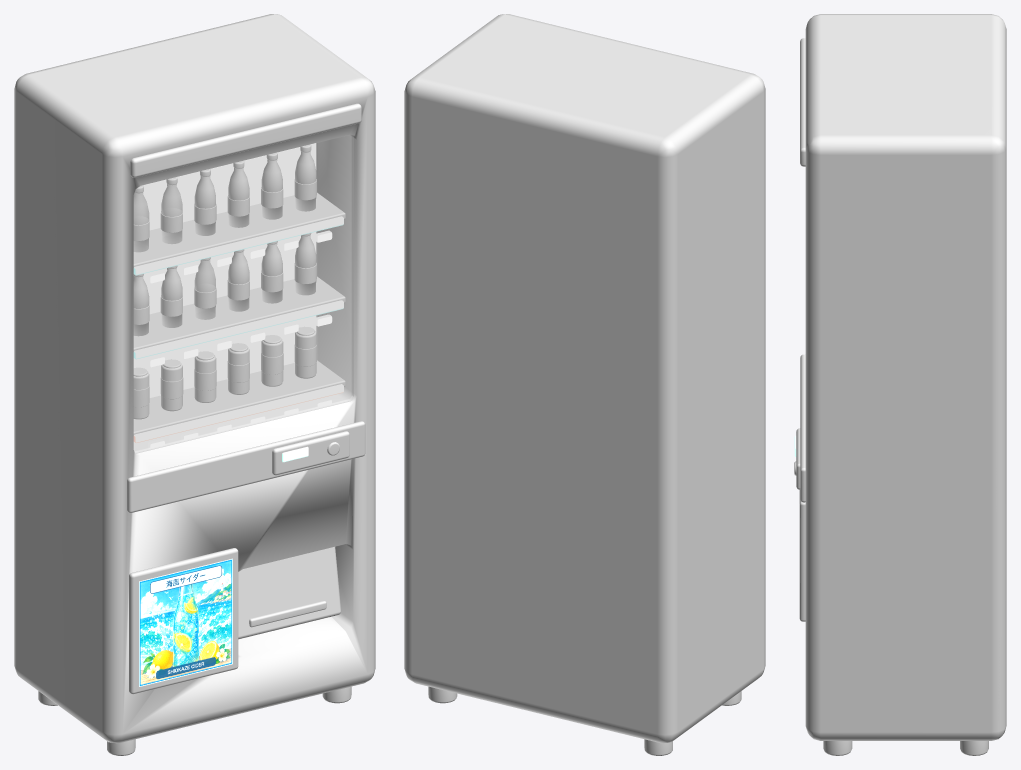
Rendered from prop_vending_white.glb.
The picture shows the model from 3 angles, left to right: view 1: azimuth 30°, elevation 25°; view 2: azimuth 150°, elevation 25°; view 3: azimuth 270°, elevation 25°; orthographic projection.
Parts seen in each view (by area): view 1: Prop_Vending_White_Cabinet, Prop_Vending_White_Glass, Prop_Vending_White, Prop_Vending_White_PosterArt, Prop_Vending_White_BackGlow, Prop_Vending_White_MidBand, Prop_Vending_White_DispenserFlap, Prop_Vending_White_HeaderStripe, Prop_Vending_White_PosterFrame, Prop_Vending_White_CoinPanel, Prop_Vending_White_PushBar; view 2: Prop_Vending_White_Cabinet; view 3: Prop_Vending_White_Cabinet, Prop_Vending_White_MidBand, Prop_Vending_White_PosterFrame, Prop_Vending_White_HeaderStripe, Prop_Vending_White_Foot.002, Prop_Vending_White_Foot.003.
Boxes of the visible parts, left/top/right/bottom form: Prop_Vending_White_Cabinet: left=14, top=14, right=375, bottom=743; Prop_Vending_White_Glass: left=133, top=135, right=353, bottom=453; Prop_Vending_White: left=133, top=144, right=345, bottom=449; Prop_Vending_White_PosterArt: left=139, top=558, right=232, bottom=686; Prop_Vending_White_BackGlow: left=133, top=143, right=316, bottom=397; Prop_Vending_White_MidBand: left=127, top=421, right=365, bottom=512; Prop_Vending_White_DispenserFlap: left=238, top=546, right=341, bottom=639; Prop_Vending_White_HeaderStripe: left=130, top=103, right=361, bottom=177; Prop_Vending_White_PosterFrame: left=129, top=548, right=238, bottom=694; Prop_Vending_White_CoinPanel: left=272, top=431, right=349, bottom=475; Prop_Vending_White_PushBar: left=249, top=601, right=326, bottom=627; Prop_Vending_White_Cabinet: left=404, top=14, right=765, bottom=743; Prop_Vending_White_Cabinet: left=805, top=14, right=1006, bottom=740; Prop_Vending_White_MidBand: left=800, top=354, right=805, bottom=502; Prop_Vending_White_PosterFrame: left=799, top=490, right=805, bottom=621; Prop_Vending_White_HeaderStripe: left=800, top=38, right=805, bottom=166; Prop_Vending_White_Foot.002: left=823, top=741, right=852, bottom=755; Prop_Vending_White_Foot.003: left=960, top=741, right=988, bottom=755.
Bounding box in the file's own units: 0.78 × 1.71 × 0.528.
Materials: 20 (1 with a texture image).
